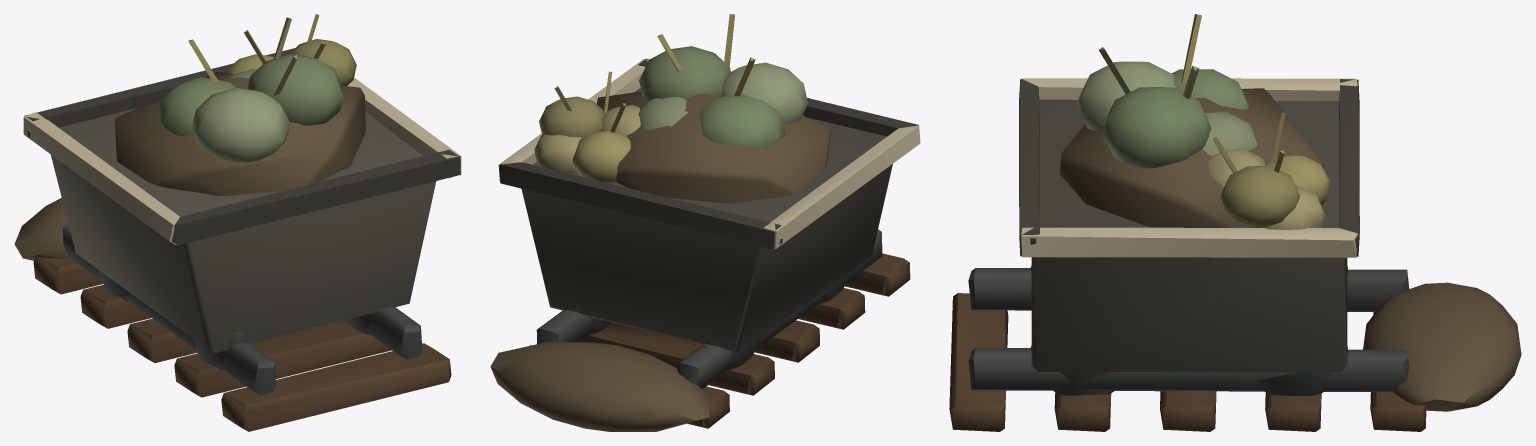
Rendered from ore_cart_stub_c_lod1.glb.
The picture shows the model from 3 angles, left to right: view 1: azimuth 30°, elevation 25°; view 2: azimuth 150°, elevation 25°; view 3: azimuth 270°, elevation 25°; orthographic projection. The views are drawn at different scales.
Visible parts, largest first — view 1: Surface.001; view 2: Surface.001; view 3: Surface.001.
Boxes of the visible parts, box(x1,y1,x2,y2) form: Surface.001: box(14, 14, 461, 431); Surface.001: box(490, 14, 920, 431); Surface.001: box(949, 14, 1521, 431).
Size of the model in its own units: 1.8 by 1.8 by 2.72.
